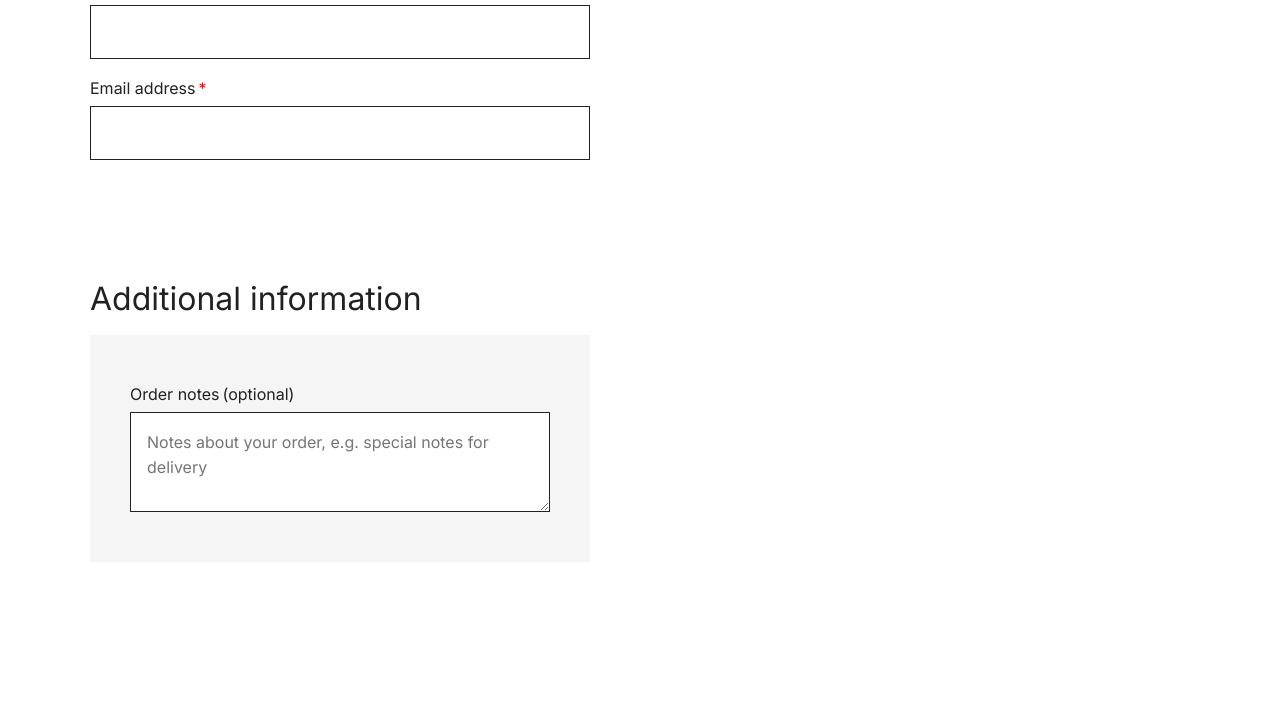
it: Checkout › should display an error message if order notes is not valid
(page scrolled)
Type "an #1^" into the text box with placeholder "Notes about your order, e.g. special notes for delivery" at (340, 462), box [130, 412, 550, 512]
(page scrolled)
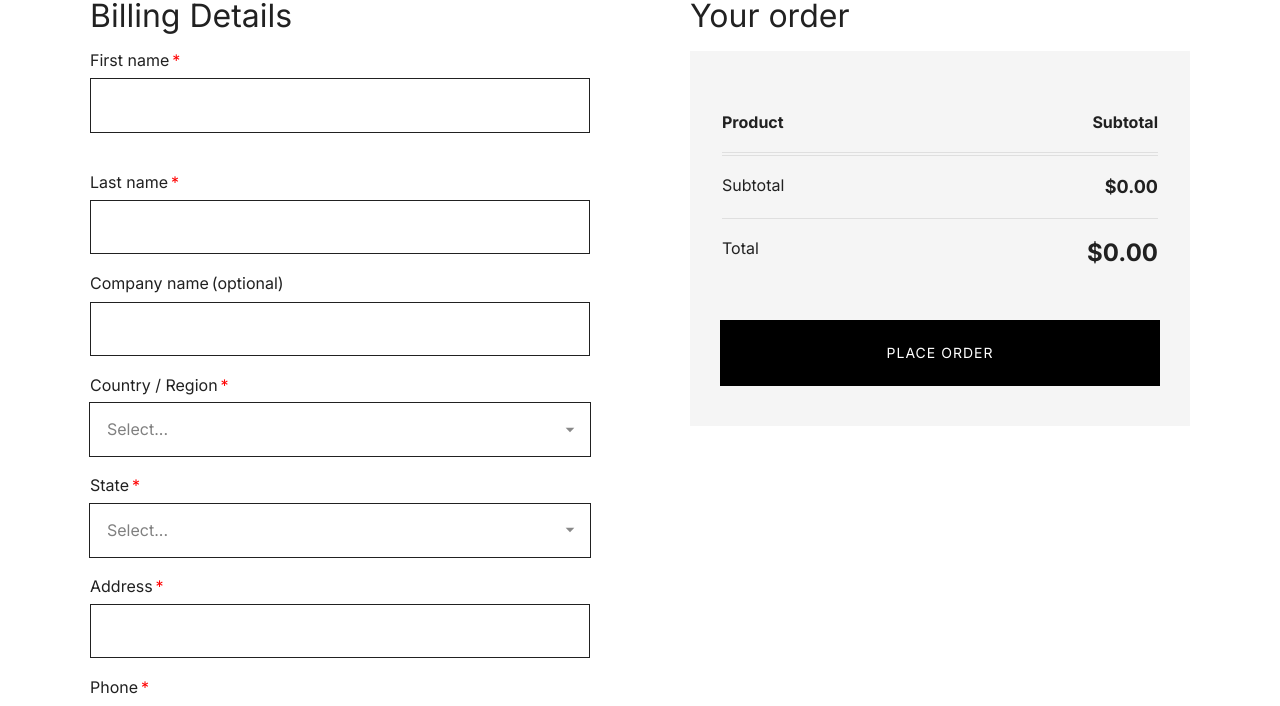
Click the button "PLACE ORDER" at (940, 353), box [720, 320, 1160, 386]
(page scrolled)
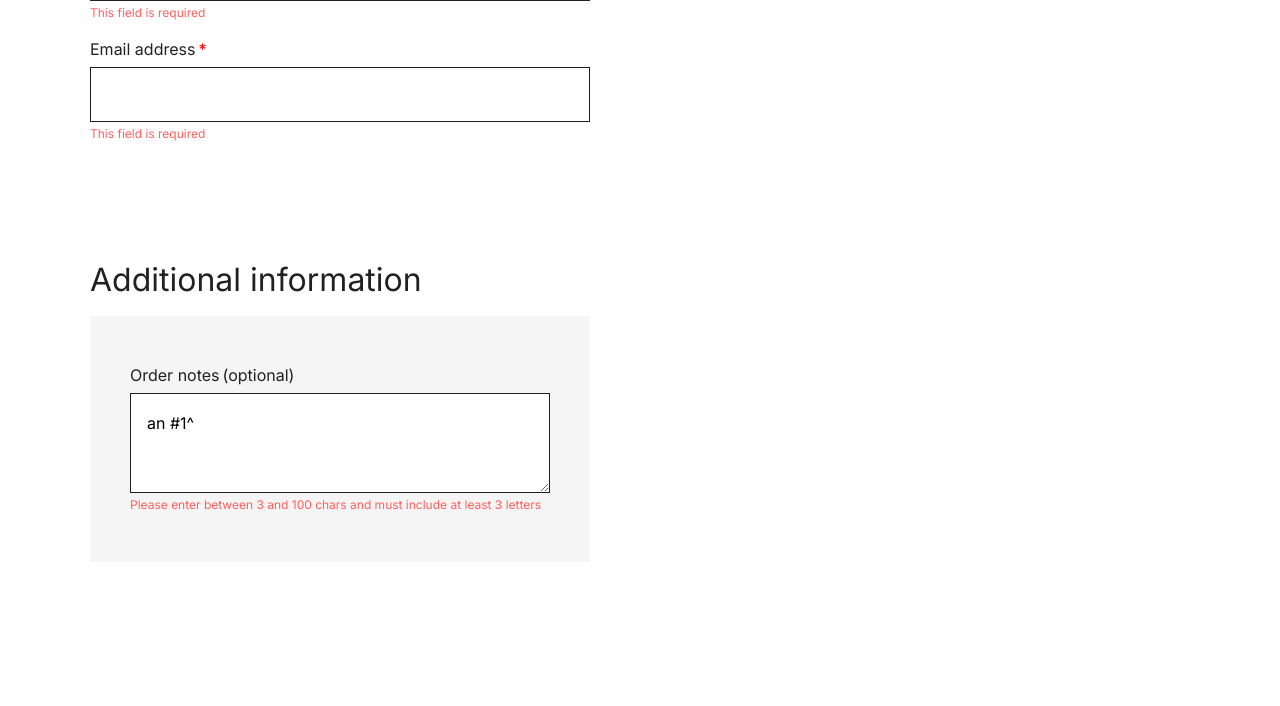
Check: the text "Please enter between 3 and 100 chars and must include at least 3 letters" is shown, box [130, 498, 550, 512]
